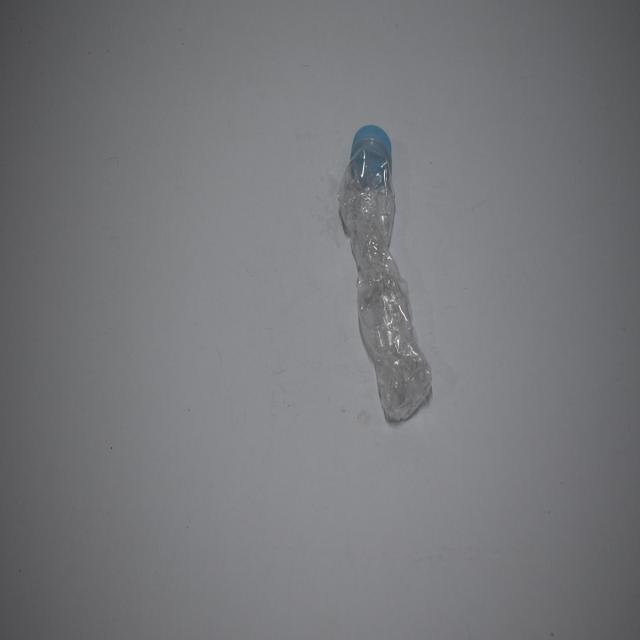bottle: (353, 119, 418, 430)
